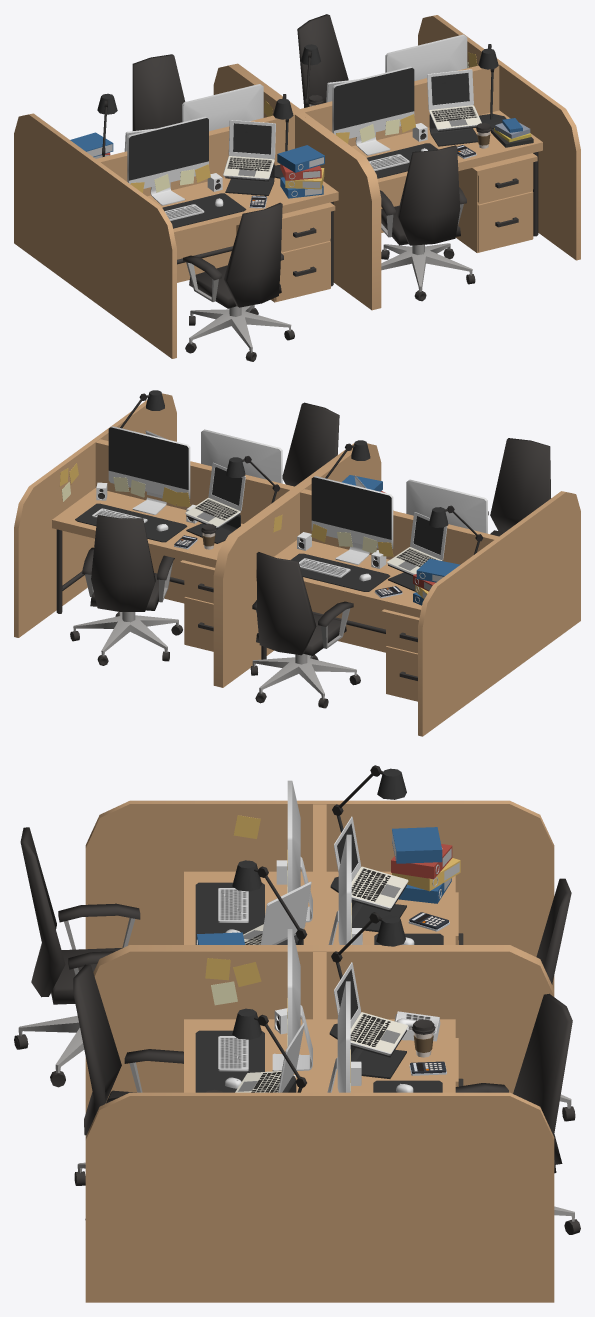
Rendered from Group_desk_02.FBX.
The picture shows the model from 3 angles, top to bottom: view 1: azimuth 30°, elevation 25°; view 2: azimuth 150°, elevation 25°; view 3: azimuth 270°, elevation 25°; orthographic projection. The views are drawn at different scales.
Visible parts, largest first — view 1: patition (×4), chair_01, chair_02, desk (×2), drawer02 (×2), monitor_02, monitor_01, chair_04, notebook1 (×2), drawer01 (×2), drawer03 (×2), chair_03 (+10 smaller); view 2: patition (×4), chair_03, chair_04, desk (×2), monitor_03, monitor_04, chair_01, chair_02, drawer02 (×2), monitor_01, monitor_02, notebook1 (×2) (+7 smaller); view 3: patition (×4), desk (×4), chair_01, chair_03, chair_02, notebook2 (×3), notebook1 (×4), file books_04, desk stand1 (×4), desk pad_02, desk pad_01, monitor_02 (+10 smaller).
Part boxes in pixels (x1=…): patition (×4): x1=14, y1=15, x2=580, y2=358; chair_01: x1=183, y1=202, x2=294, y2=361; chair_02: x1=380, y1=145, x2=475, y2=301; desk (×2): x1=147, y1=110, x2=542, y2=286; drawer02 (×2): x1=275, y1=191, x2=533, y2=301; monitor_02: x1=332, y1=66, x2=414, y2=155; monitor_01: x1=127, y1=116, x2=208, y2=205; chair_04: x1=132, y1=54, x2=185, y2=130; notebook1 (×2): x1=228, y1=69, x2=473, y2=159; drawer01 (×2): x1=281, y1=162, x2=533, y2=250; drawer03 (×2): x1=236, y1=153, x2=537, y2=302; chair_03: x1=297, y1=14, x2=348, y2=107; patition (×4): x1=14, y1=393, x2=580, y2=736; chair_03: x1=70, y1=515, x2=182, y2=665; chair_04: x1=250, y1=552, x2=360, y2=708; desk (×2): x1=52, y1=488, x2=421, y2=659; monitor_03: x1=108, y1=426, x2=190, y2=514; monitor_04: x1=311, y1=476, x2=393, y2=564; chair_01: x1=488, y1=438, x2=550, y2=536; chair_02: x1=282, y1=402, x2=339, y2=486; drawer02 (×2): x1=184, y1=597, x2=417, y2=700; monitor_01: x1=406, y1=479, x2=487, y2=533; monitor_02: x1=201, y1=429, x2=282, y2=483; notebook1 (×2): x1=208, y1=462, x2=447, y2=560; patition (×4): x1=85, y1=800, x2=554, y2=1302; desk (×4): x1=184, y1=871, x2=455, y2=1092; chair_01: x1=14, y1=827, x2=140, y2=1087; chair_03: x1=455, y1=993, x2=580, y2=1234; chair_02: x1=73, y1=964, x2=183, y2=1219; notebook2 (×3): x1=235, y1=866, x2=408, y2=1092; notebook1 (×4): x1=261, y1=816, x2=360, y2=1092; file books_04: x1=391, y1=827, x2=460, y2=903; desk stand1 (×4): x1=232, y1=768, x2=406, y2=1039; desk pad_02: x1=195, y1=1030, x2=264, y2=1092; desk pad_01: x1=195, y1=882, x2=264, y2=944; monitor_02: x1=272, y1=929, x2=312, y2=1071.
Bounding box in the file's own units: 345 × 144 × 280.
Materials: 1 (1 with a texture image).
